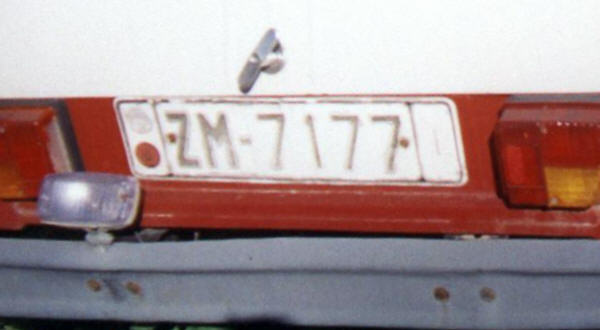license_plate: (114, 98, 468, 186)
